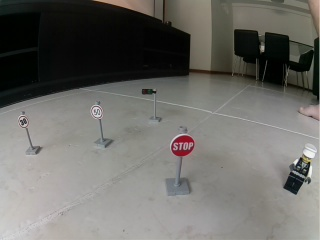Green Traffic Light: (141, 88, 161, 123)
Person: (284, 140, 317, 197)
Speed Limit 30: (90, 105, 103, 119)
Speed Limit 50: (18, 116, 29, 128)
Stop Sign: (170, 134, 195, 159)
